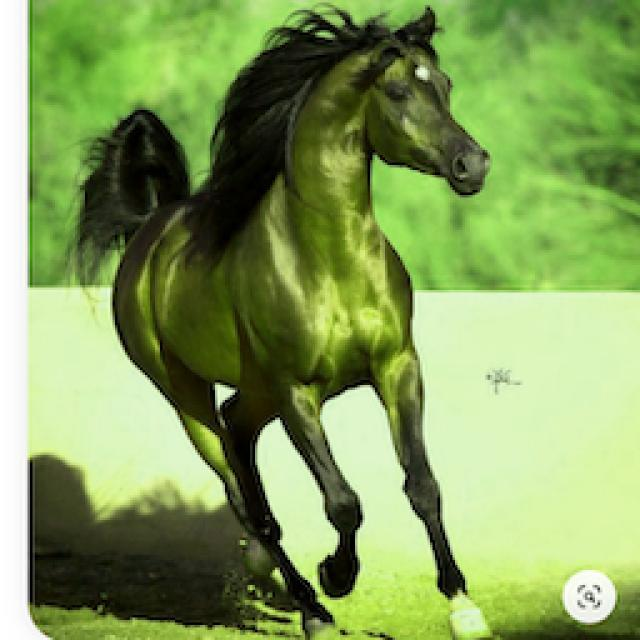Horse: (65, 0, 513, 638)
